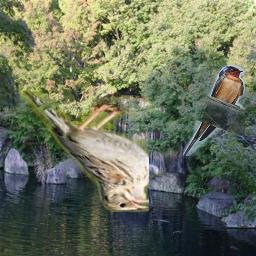Sparrow: (17, 88, 149, 212)
Swallow: (183, 65, 245, 156)
